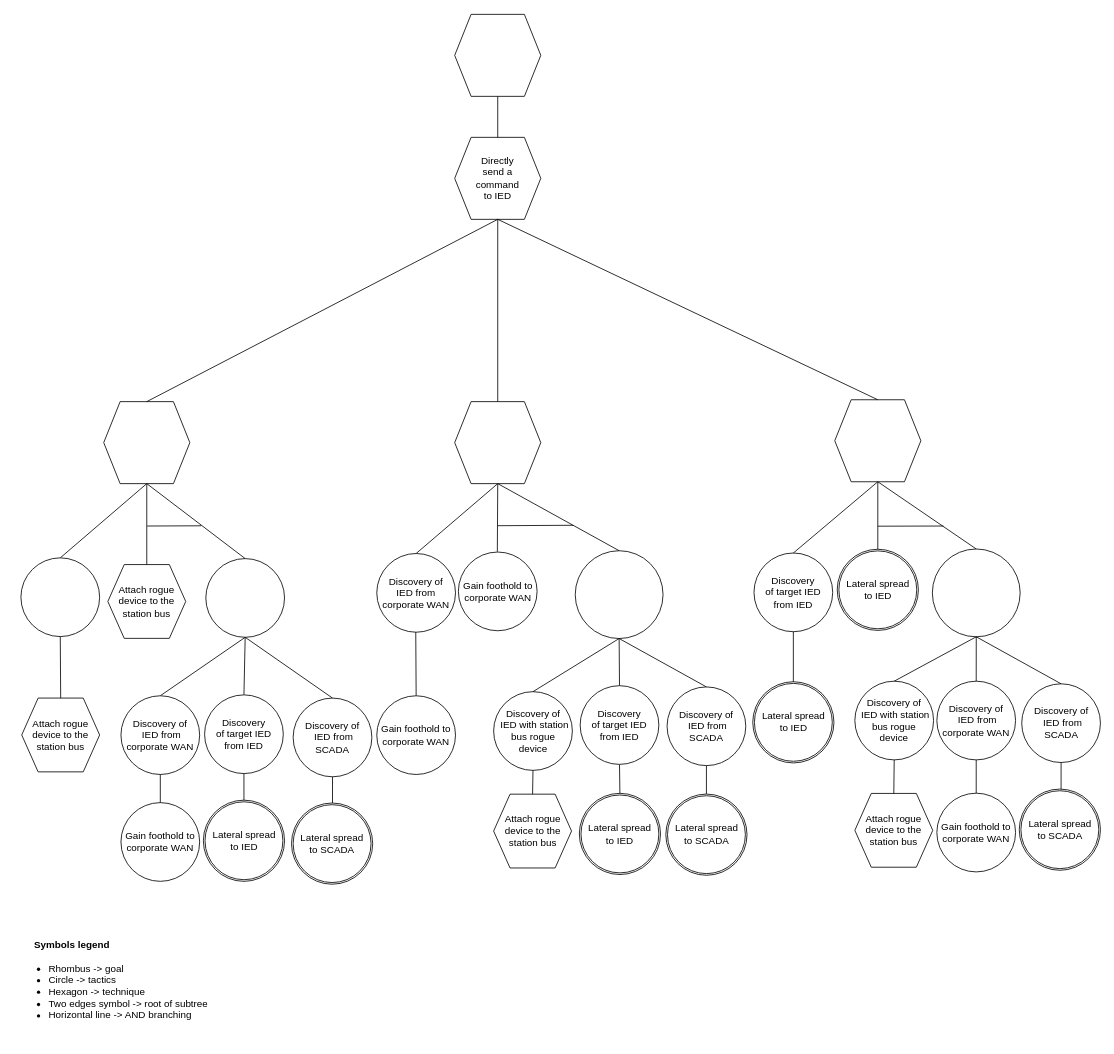
Image size: 1114x1054. Some labels were removed from this diagram. Here are the shapes that lost their labels. From the top down, the box of each, then its label:
(454, 14, 541, 96): Send a command to control element
(103, 401, 190, 484): Directly send a command to IED with station bus rogue device
(454, 401, 541, 484): Directly send a command to IED from corporate WAN
(834, 399, 921, 482): Directly send a command to IED from other IED
(20, 557, 100, 637): Discovery of IED with the station bus rogue device
(205, 558, 285, 637): Discovery of IED's station bus network intarface without rogue device
(574, 550, 663, 639): Discovery of IED's station bus network intarface not form corporate WAN
(932, 548, 1020, 637): Discovery of target IED's station bus network intarface not form IED
